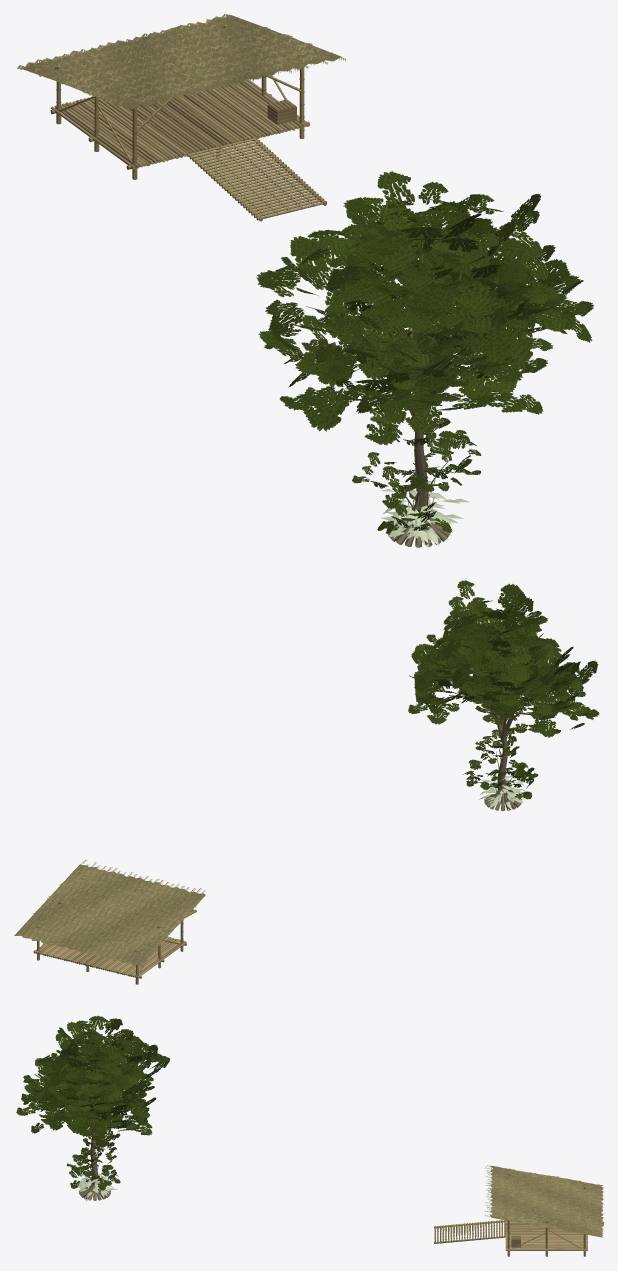
File: reconstruction-low.glb
The picture shows the model from 3 angles, top to bottom: view 1: azimuth 30°, elevation 25°; view 2: azimuth 150°, elevation 25°; view 3: azimuth 270°, elevation 25°; orthographic projection. The views are drawn at different scales.
Parts seen in each view (by area): view 1: forest-2-crown-far, forest-0-crown-far, shelter-thatch, forest-1-crown-far, shelter-deck, shelter-timber, understory-1-leaves-far, forest-0-wood-far, understory-2-leaves-far, understory-0-leaves-far; view 2: shelter-thatch, forest-2-crown-far, forest-1-crown-far, forest-0-crown-far, shelter-deck, understory-1-leaves-far, forest-0-wood-far, shelter-timber; view 3: forest-2-crown-far, shelter-thatch, forest-0-crown-far, forest-1-crown-far, shelter-deck, shelter-timber, understory-1-leaves-far, forest-0-wood-far.
Boxes of the visible parts, x1,y1,x2,y2 form: forest-2-crown-far: (258,171,593,408); forest-0-crown-far: (256,207,576,434); shelter-thatch: (17,14,345,109); forest-1-crown-far: (258,232,580,445); shelter-deck: (51,79,309,169); shelter-timber: (50,24,326,221); understory-1-leaves-far: (352,400,481,533); forest-0-wood-far: (390,332,458,547); understory-2-leaves-far: (381,489,469,548); understory-0-leaves-far: (386,480,464,540); shelter-thatch: (14,860,205,966); forest-2-crown-far: (426,580,598,719); forest-1-crown-far: (411,626,599,737); forest-0-crown-far: (408,608,589,733); shelter-deck: (33,937,186,978); understory-1-leaves-far: (463,728,538,799); forest-0-wood-far: (449,680,522,811); shelter-timber: (33,877,196,984); forest-2-crown-far: (34,1016,169,1130); shelter-thatch: (485,1165,603,1237); forest-0-crown-far: (16,1030,156,1148); forest-1-crown-far: (23,1046,153,1136); shelter-deck: (505,1220,587,1250); shelter-timber: (434,1173,589,1256); understory-1-leaves-far: (66,1133,120,1190); forest-0-wood-far: (80,1101,109,1200).
Bounding box in the file's own units: 26.72 × 18.99 × 57.45.
4 materials, 1 textured.
